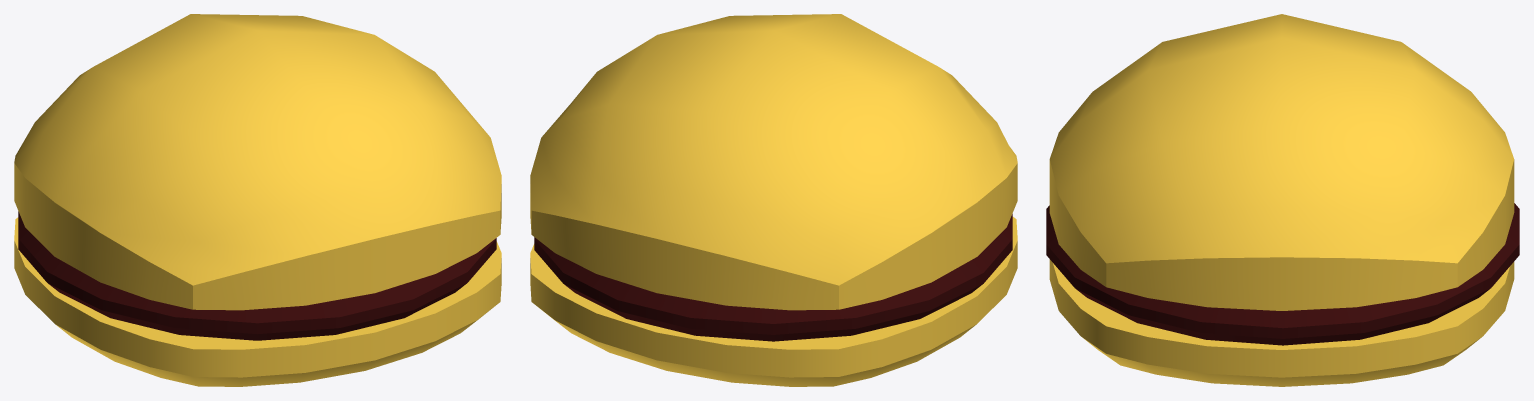
Rendered from hamburger_poly.FBX.
The picture shows the model from 3 angles, left to right: view 1: azimuth 30°, elevation 25°; view 2: azimuth 150°, elevation 25°; view 3: azimuth 270°, elevation 25°; orthographic projection.
Visible parts, largest first — view 1: up bread, bread is down, meat; view 2: up bread, bread is down, meat; view 3: up bread, bread is down, meat.
Part boxes in pixels (<box>): up bread: <box>14,14,501,310</box>; bread is down: <box>14,217,501,386</box>; meat: <box>18,211,496,340</box>; up bread: <box>530,14,1017,310</box>; bread is down: <box>530,216,1017,386</box>; meat: <box>534,214,1012,341</box>; up bread: <box>1049,14,1514,310</box>; bread is down: <box>1049,259,1514,386</box>; meat: <box>1046,203,1519,345</box>.
Size of the model in its own units: 53.63 by 32.72 by 52.82.
